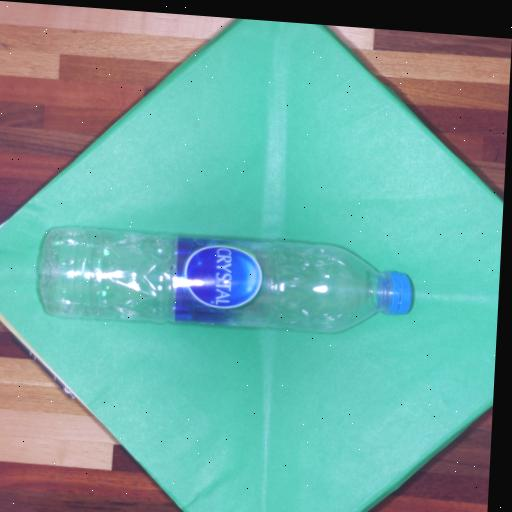bottle: (41, 227, 412, 331)
